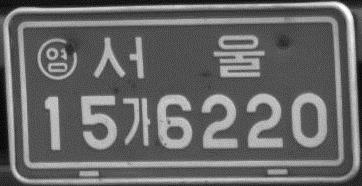0: (291, 91, 327, 149)
1: (40, 94, 65, 153)
2: (243, 92, 284, 151), (201, 91, 240, 149)
5: (78, 92, 119, 152)
6: (156, 93, 193, 151)
가: (120, 96, 152, 148)
서울_D: (89, 32, 266, 82)
영: (37, 35, 79, 82)
